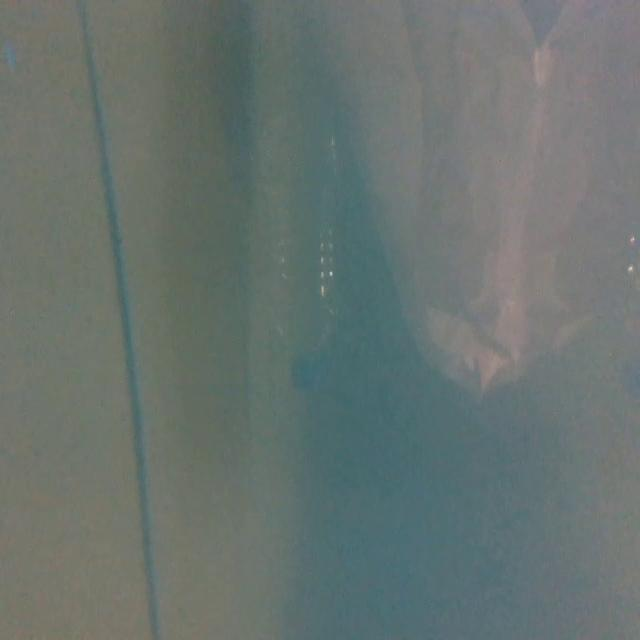plastic bags: (318, 0, 640, 456)
plastic bottle: (244, 92, 357, 405)
